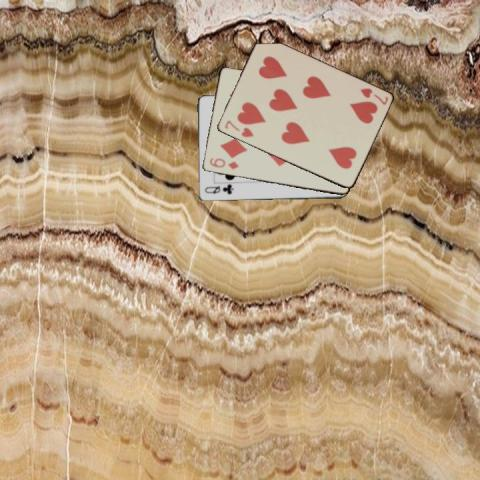6d: (207, 155, 240, 171)
7h: (221, 117, 255, 139), (358, 85, 390, 107)
Qc: (202, 182, 235, 196)
